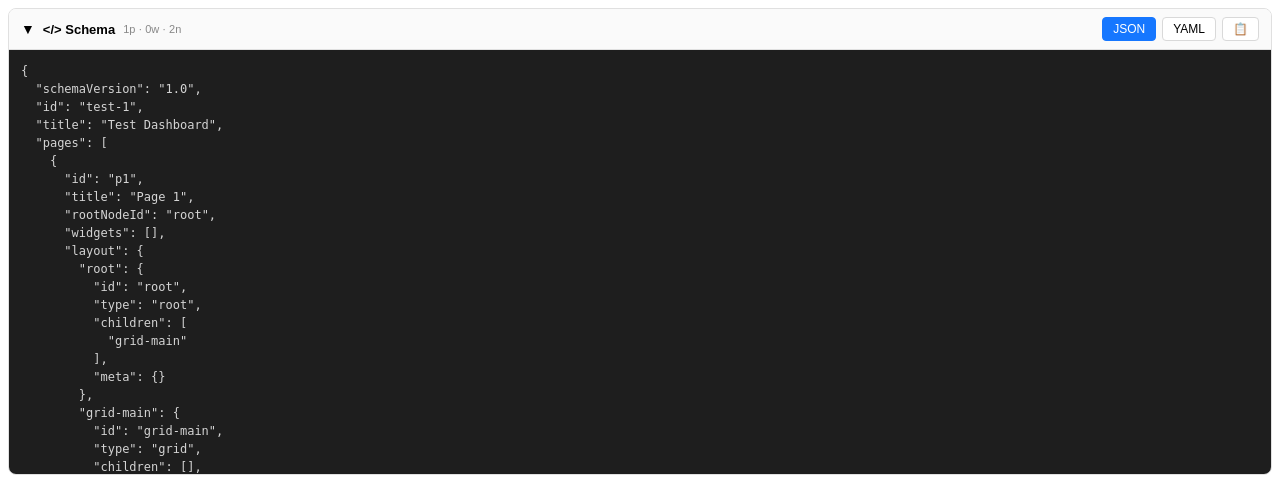
CodeViewPanel › switches to YAML format
What coordinates should you click on to do the following:
click the button with test id "code-view-yaml"
I would click on:
 (1189, 29)
Its box is [1162, 17, 1216, 41].
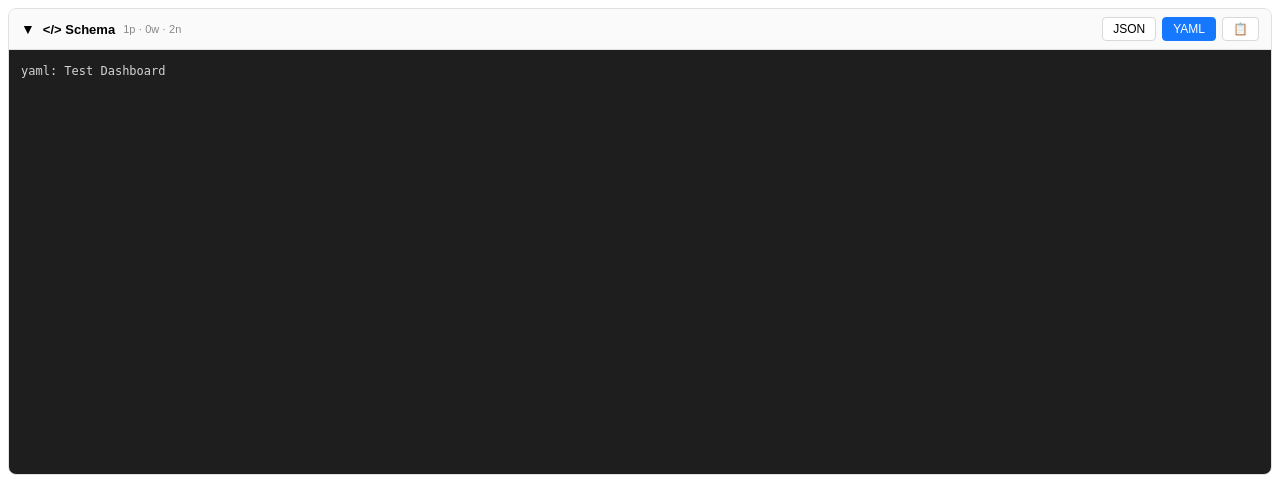
Result: the text with test id "code-view-content" shows "yaml:" at [21, 64, 166, 78]
